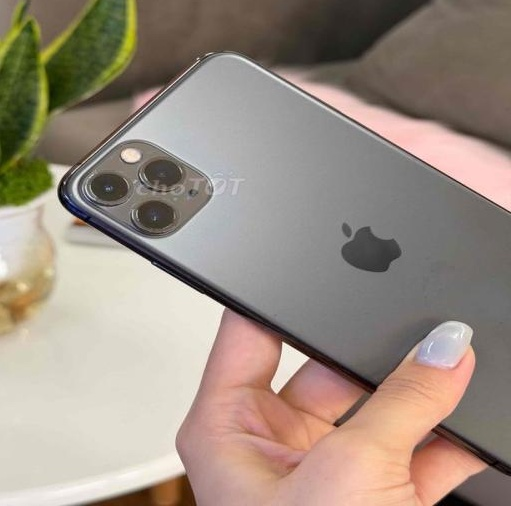scratch: (75, 165, 102, 207), (127, 174, 141, 188)
